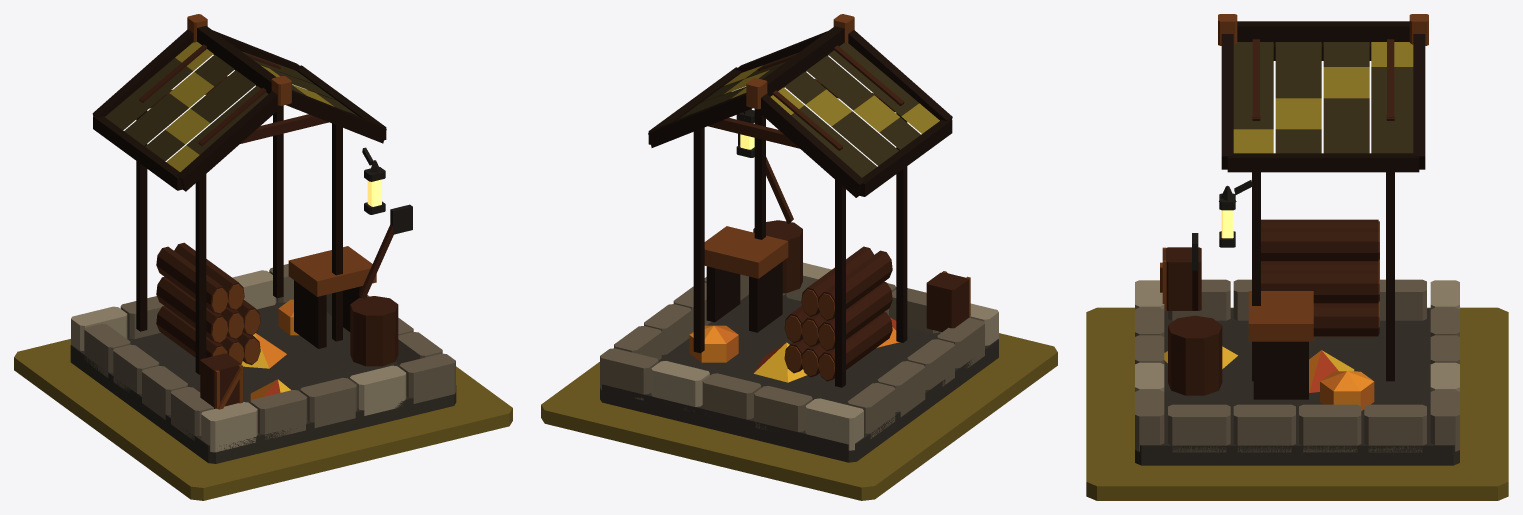
File: timber_yard_t5.glb
3 views of the same model, side by side, from view 1: azimuth 30°, elevation 25°; view 2: azimuth 150°, elevation 25°; view 3: azimuth 270°, elevation 25° (orthographic). The views are drawn at different scales.
Visible parts, largest first — view 1: MMR | timber_yard | T05 Architecture.001, MMR | timber_yard | Tier 05 Ground.001, MMR | timber_yard | T05 Autumn Dressing.001; view 2: MMR | timber_yard | T05 Architecture.001, MMR | timber_yard | Tier 05 Ground.001, MMR | timber_yard | T05 Autumn Dressing.001; view 3: MMR | timber_yard | T05 Architecture.001, MMR | timber_yard | Tier 05 Ground.001, MMR | timber_yard | T05 Autumn Dressing.001.
Boxes of the visible parts, left/top/right/bottom form: MMR | timber_yard | T05 Architecture.001: left=70, top=14, right=456, bottom=463; MMR | timber_yard | Tier 05 Ground.001: left=14, top=339, right=512, bottom=500; MMR | timber_yard | T05 Autumn Dressing.001: left=241, top=299, right=298, bottom=401; MMR | timber_yard | T05 Architecture.001: left=600, top=14, right=998, bottom=462; MMR | timber_yard | Tier 05 Ground.001: left=541, top=333, right=1057, bottom=500; MMR | timber_yard | T05 Autumn Dressing.001: left=689, top=317, right=899, bottom=382; MMR | timber_yard | T05 Architecture.001: left=1135, top=14, right=1459, bottom=465; MMR | timber_yard | Tier 05 Ground.001: left=1086, top=307, right=1508, bottom=500; MMR | timber_yard | T05 Autumn Dressing.001: left=1164, top=346, right=1374, bottom=410.
Size of the model in its own units: 1.3 by 1.31 by 1.3.
2 materials, 1 textured.
